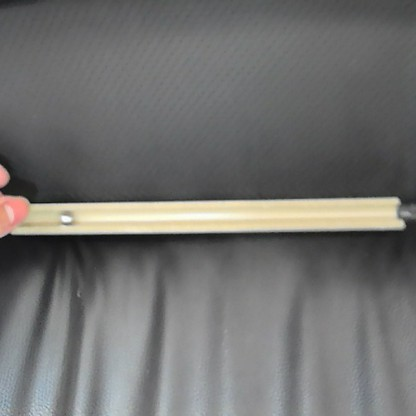ironball: (54, 207, 77, 226)
